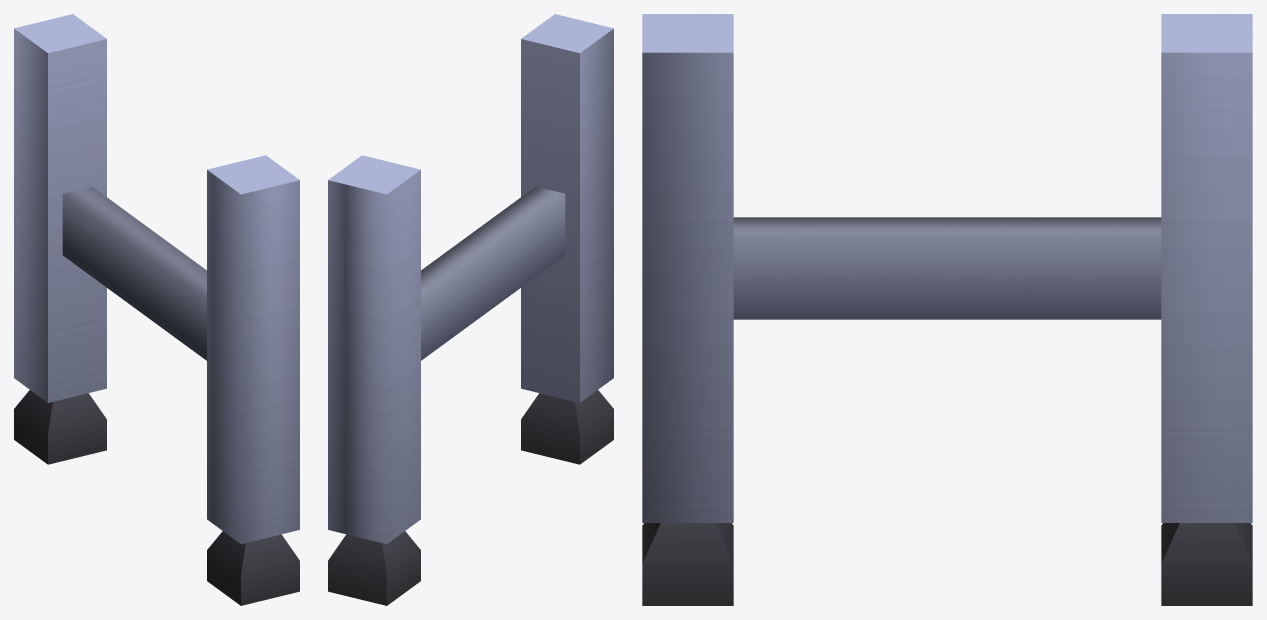
The model's file is structure-medium.glb.
3 renders of one model, left to right at view 1: azimuth 30°, elevation 25°; view 2: azimuth 150°, elevation 25°; view 3: azimuth 270°, elevation 25°, orthographic. The views are drawn at different scales.
Visible parts, largest first — view 1: structure-medium; view 2: structure-medium; view 3: structure-medium.
Part boxes in pixels (bbox=[...]): structure-medium: bbox=[14, 14, 299, 605]; structure-medium: bbox=[328, 14, 613, 605]; structure-medium: bbox=[642, 14, 1252, 605].
Bounding box in the file's own units: 0.15 × 1 × 1.
Materials: 1 (1 with a texture image).
